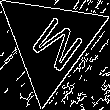M_SW: (19, 8, 82, 76)
